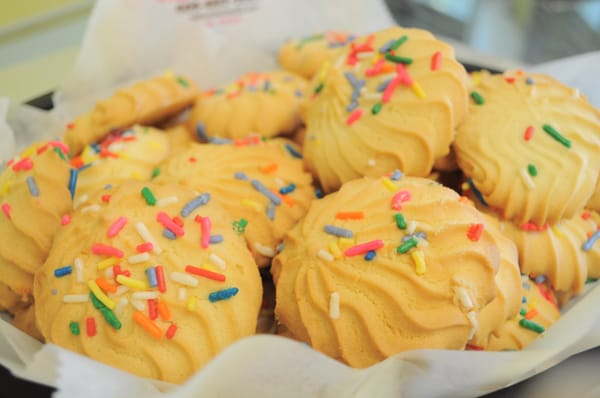salad: (25, 97, 317, 383), (272, 172, 534, 369)
sushi: (5, 21, 598, 392), (273, 171, 541, 369)
